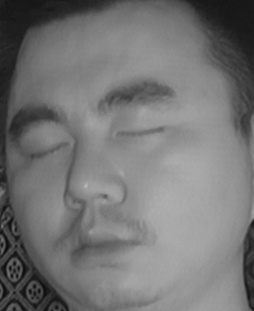blink: (115, 114, 166, 151), (23, 132, 72, 167)
mouth: (57, 213, 148, 273)
